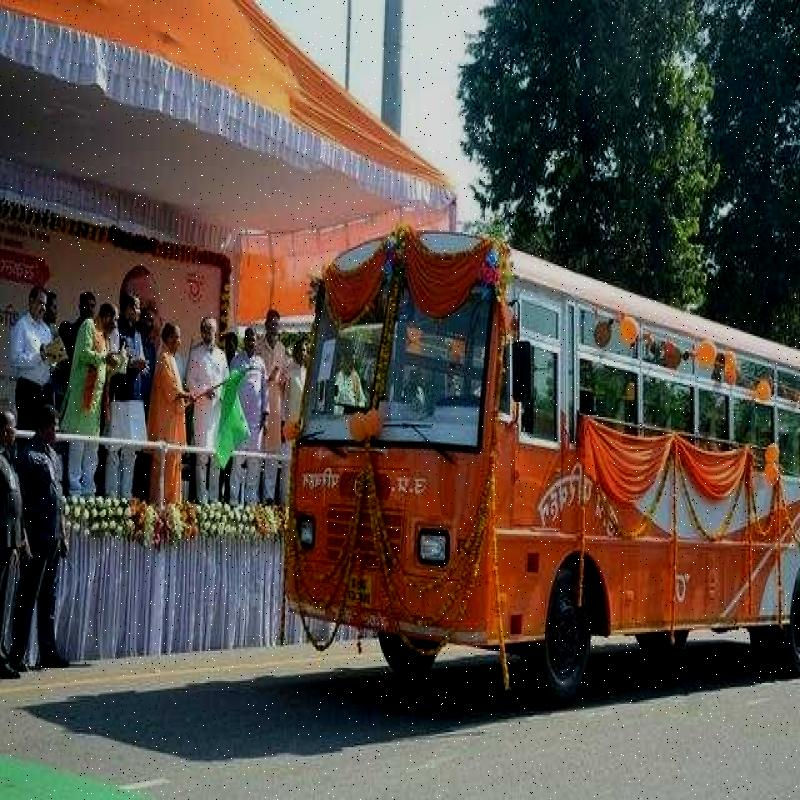bus: (260, 227, 772, 668)
